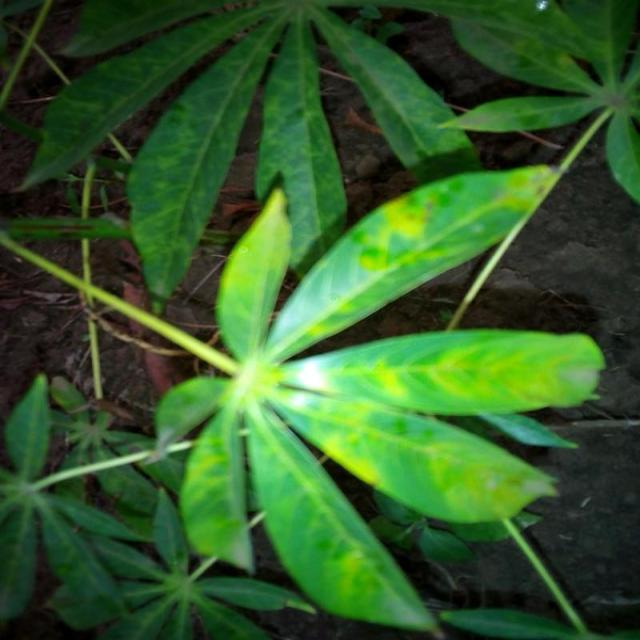cassava leaf: (148, 161, 606, 634)
